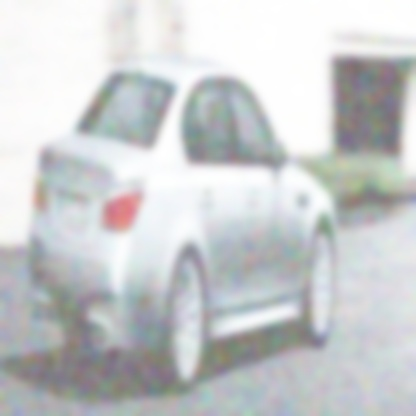Vehicle: (29, 51, 339, 391)
